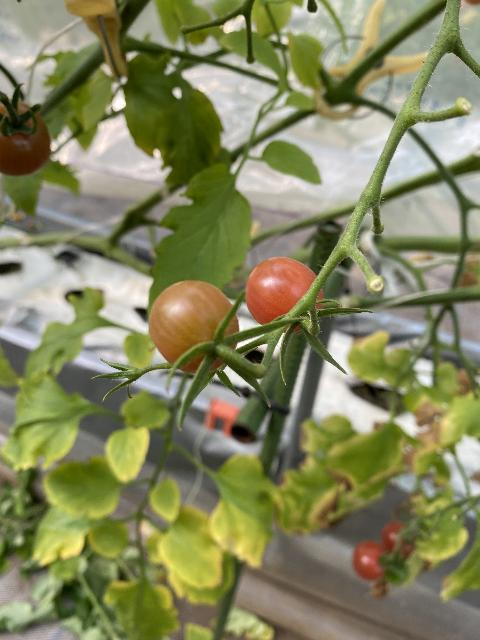l_fully_ripened: (244, 256, 324, 334)
l_half_ripened: (149, 281, 239, 375), (0, 99, 51, 176)
